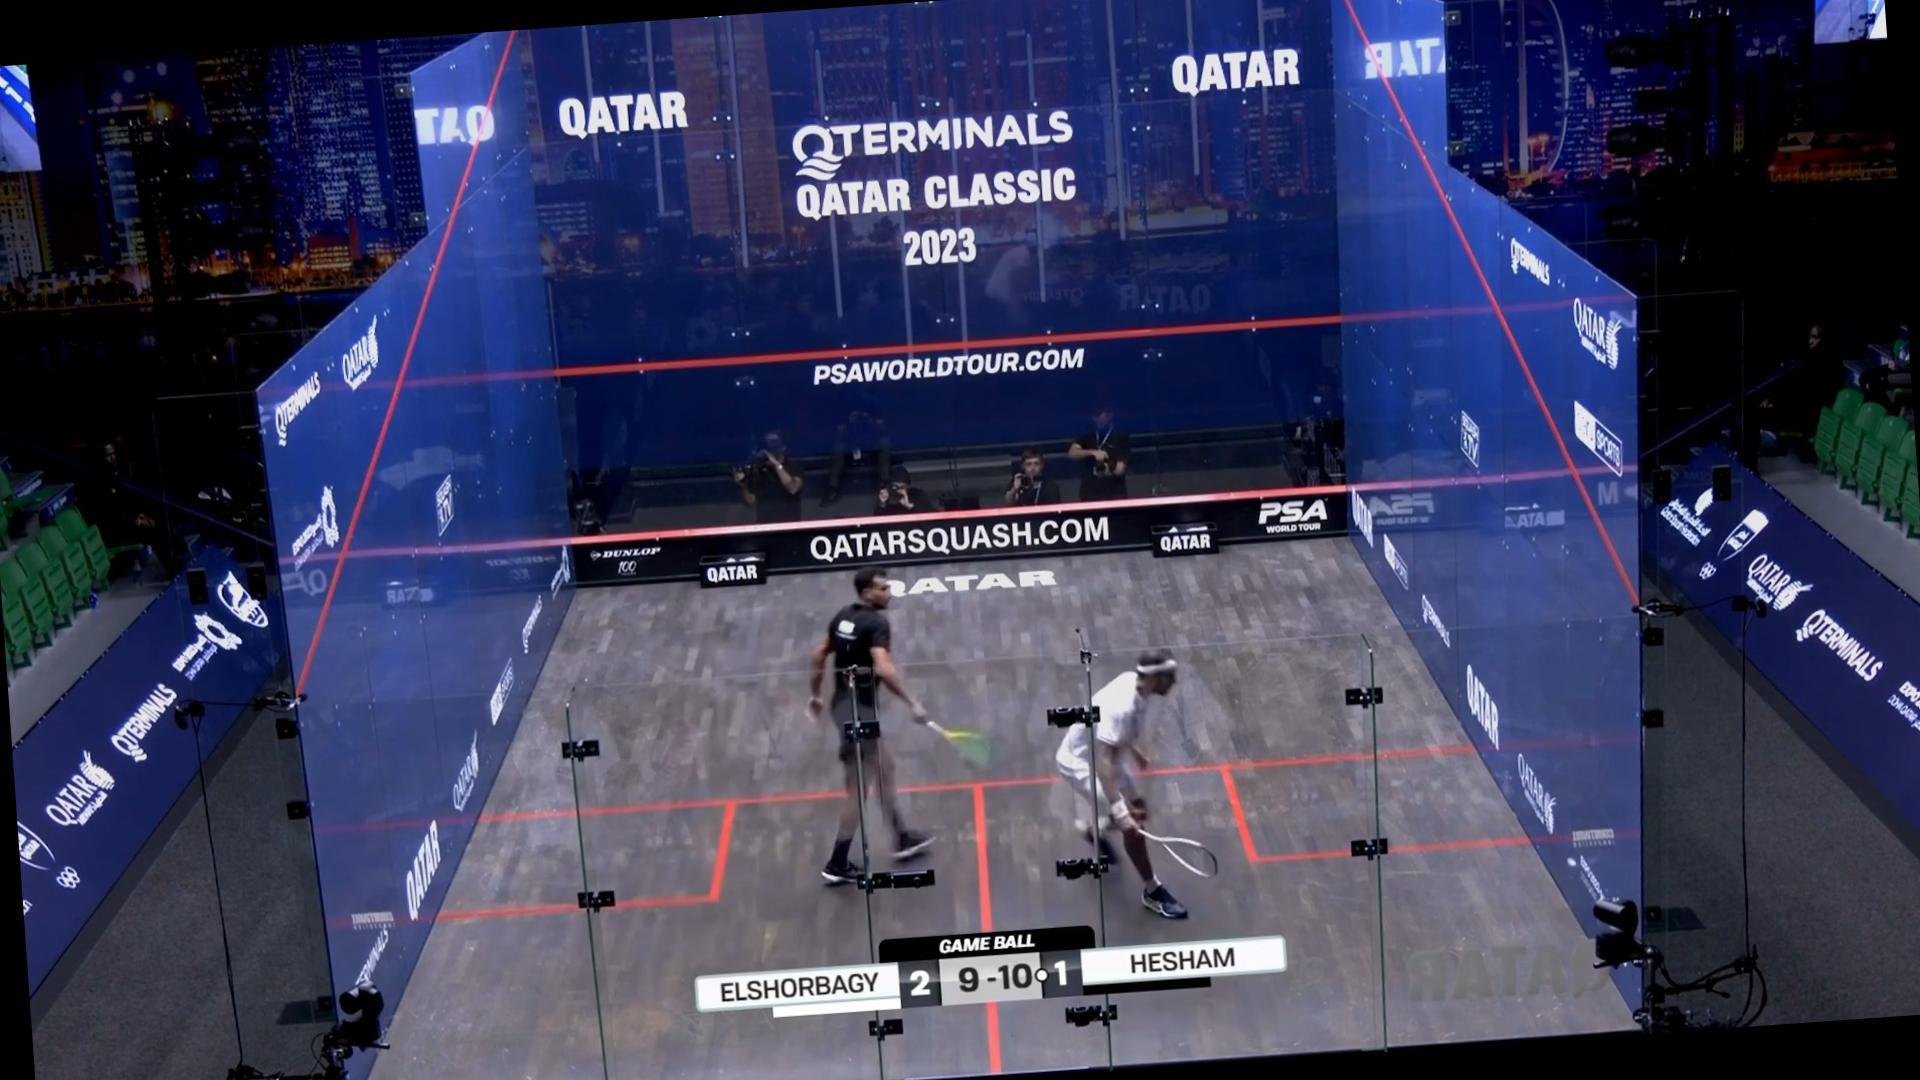Squash-Ball: (1557, 844, 1588, 881)
